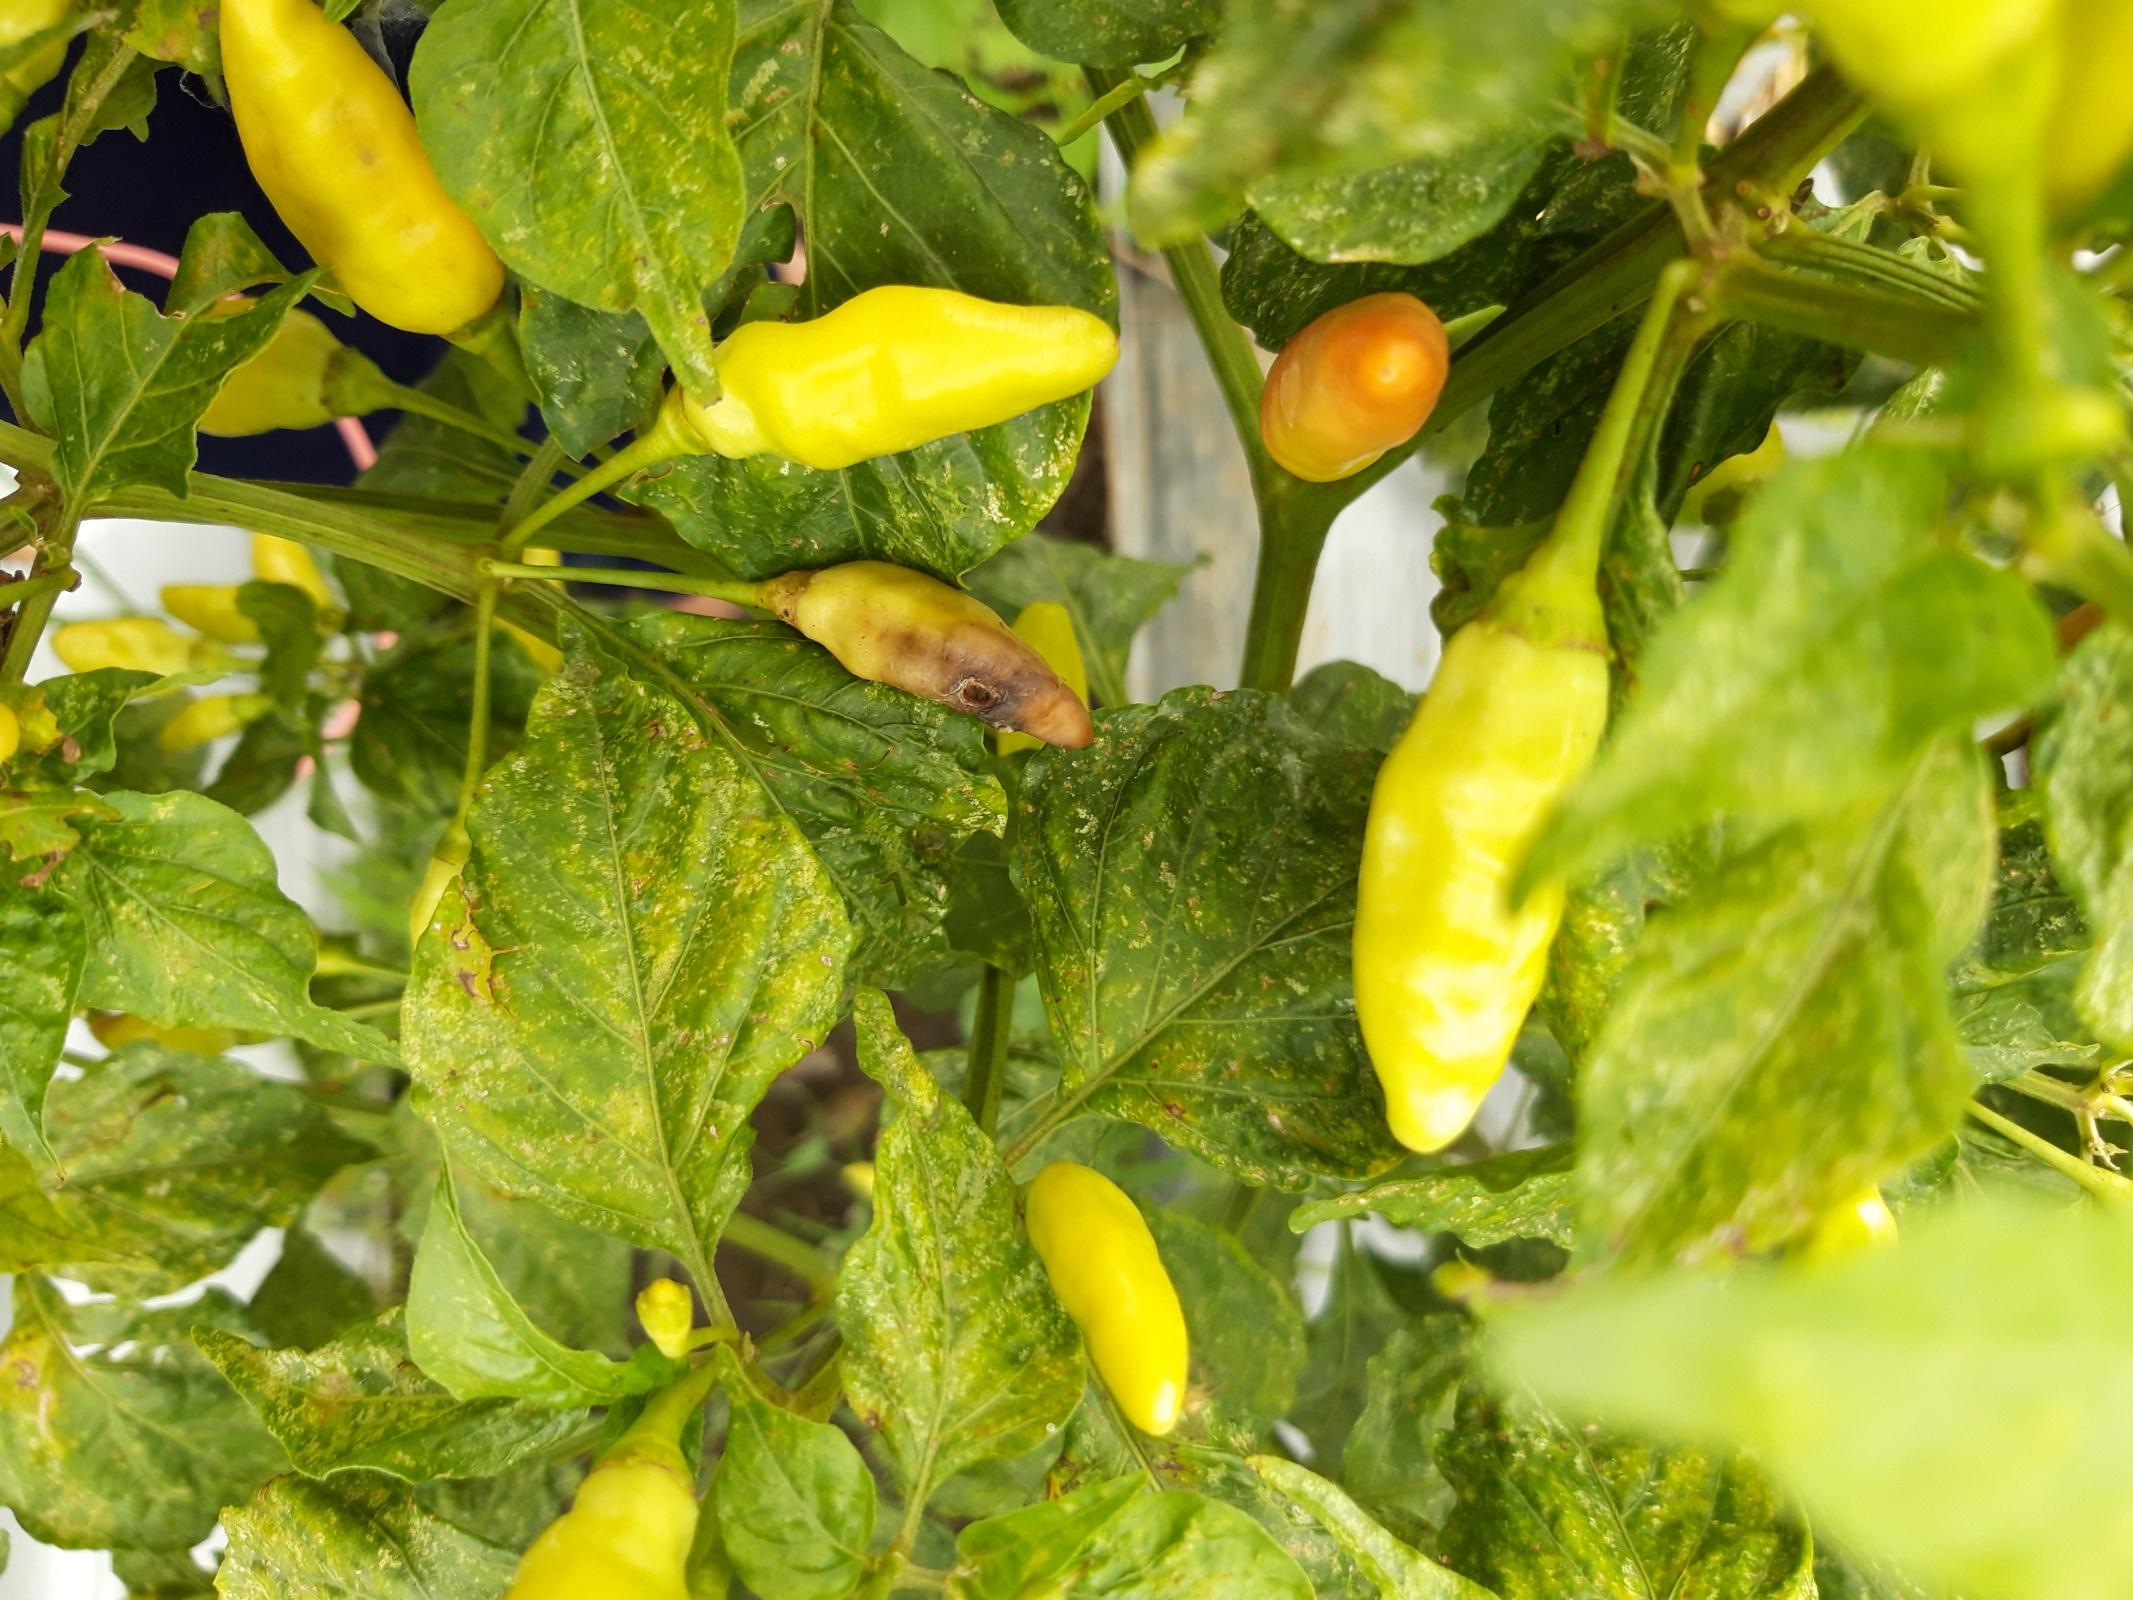cabai_normal: (1353, 620, 1614, 1153), (217, 0, 514, 343), (681, 276, 1121, 471), (1029, 1160, 1190, 1440), (1259, 291, 1451, 479), (511, 1466, 699, 1600)
lalat_buah: (783, 560, 1094, 746)
